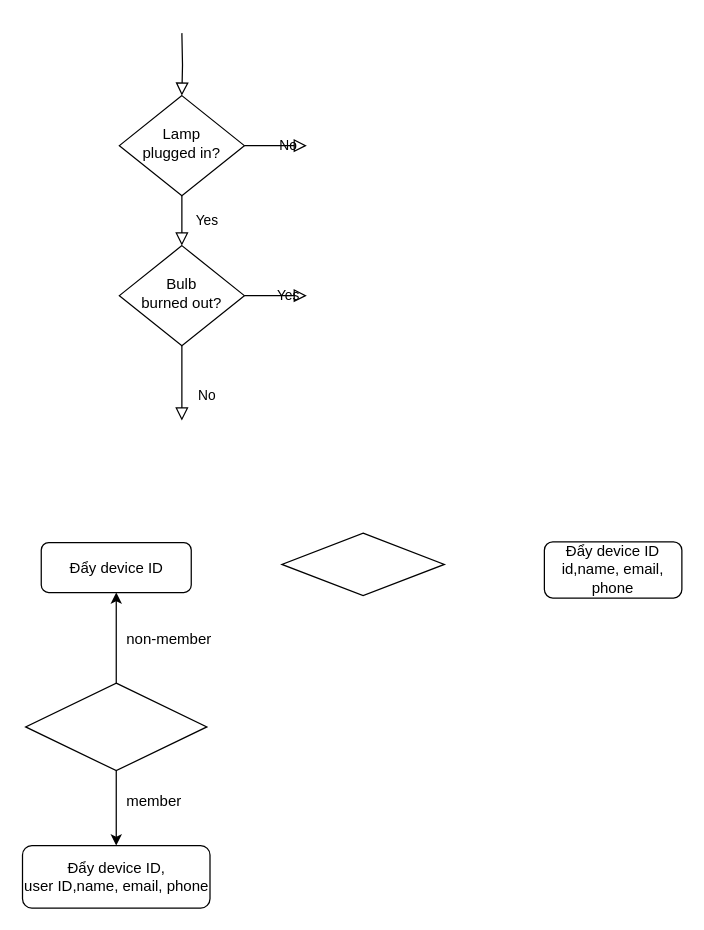
The diagram is 704 pixels wide and 930 high, and some of its shapes have lost their labels. Each missing label, with the centre of its shape:
Kiểm tra member và non-member: (115,726)
Nếu user nhập thông tin ở trang payment và ấn nút đặt hàng: (362,564)
